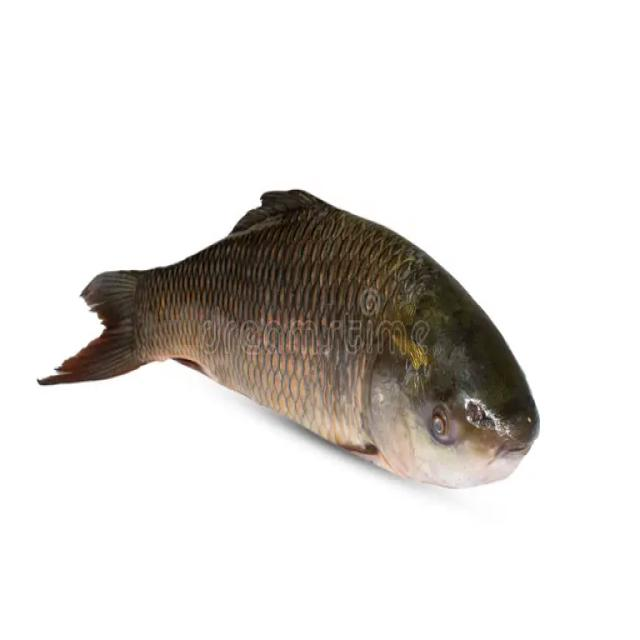Rohu: (30, 188, 541, 488)
